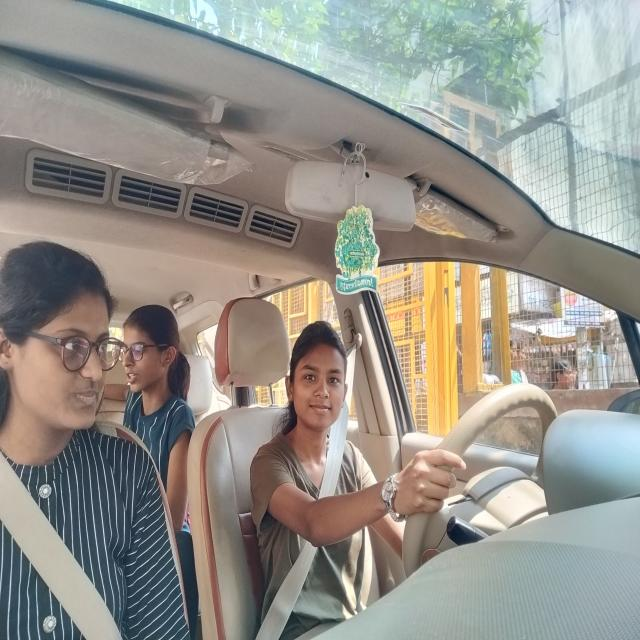person: (0, 242, 120, 458), (283, 318, 348, 434), (124, 305, 185, 407)
